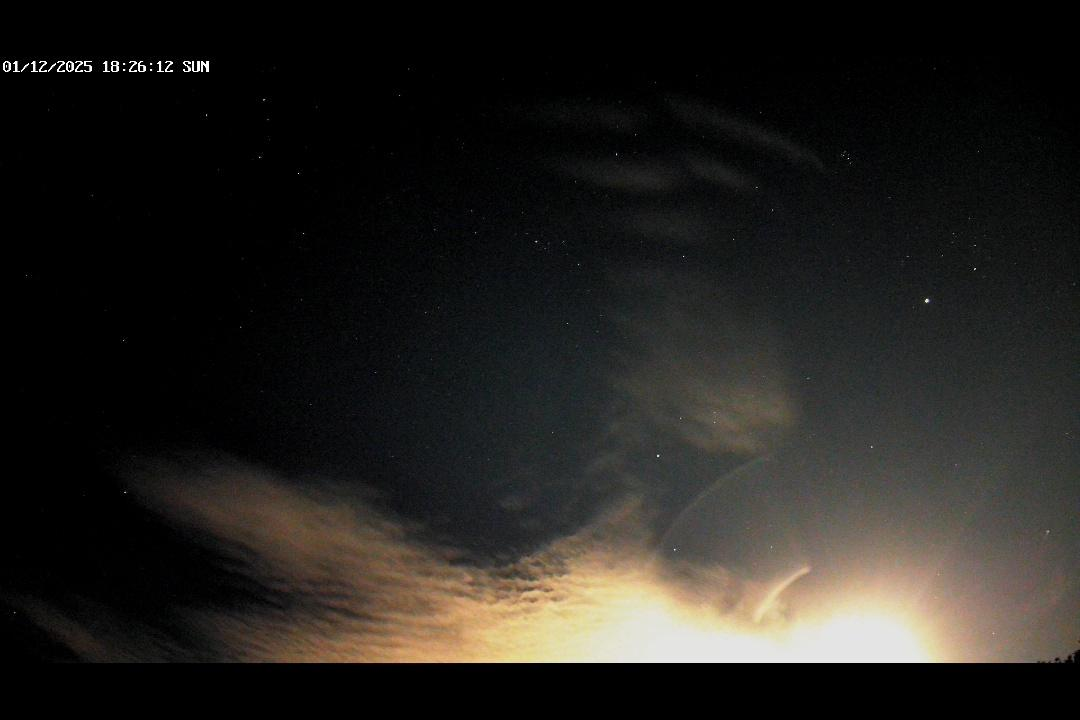Plane: (1033, 523, 1063, 549)
